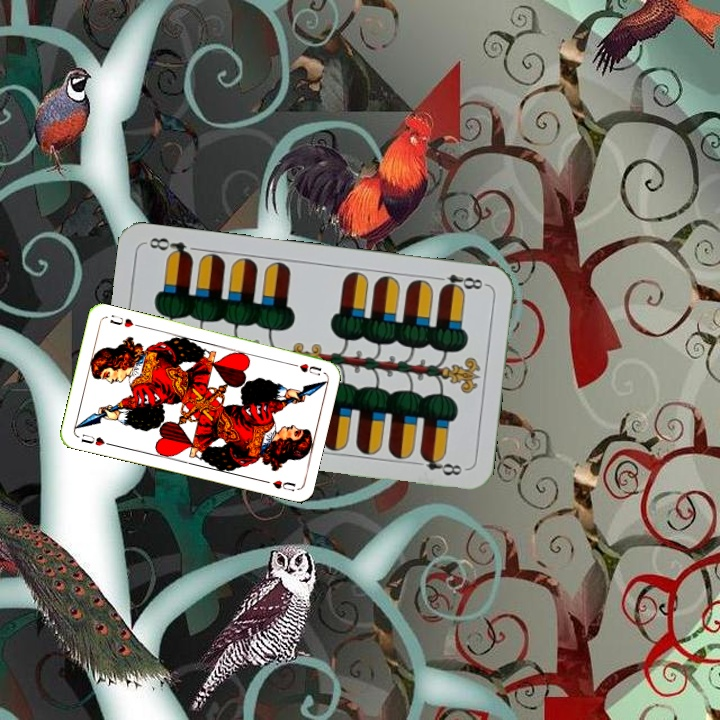E8: (431, 270, 490, 295)
HU: (285, 358, 324, 378), (77, 430, 114, 449)
